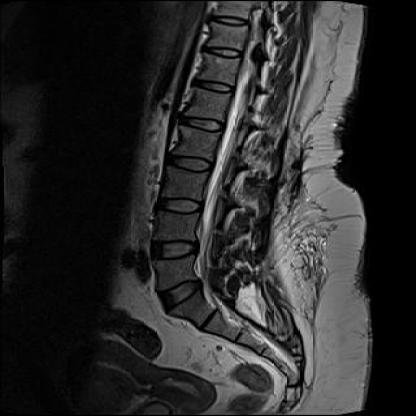Disc Bulgerotation: (156, 280, 211, 308)
